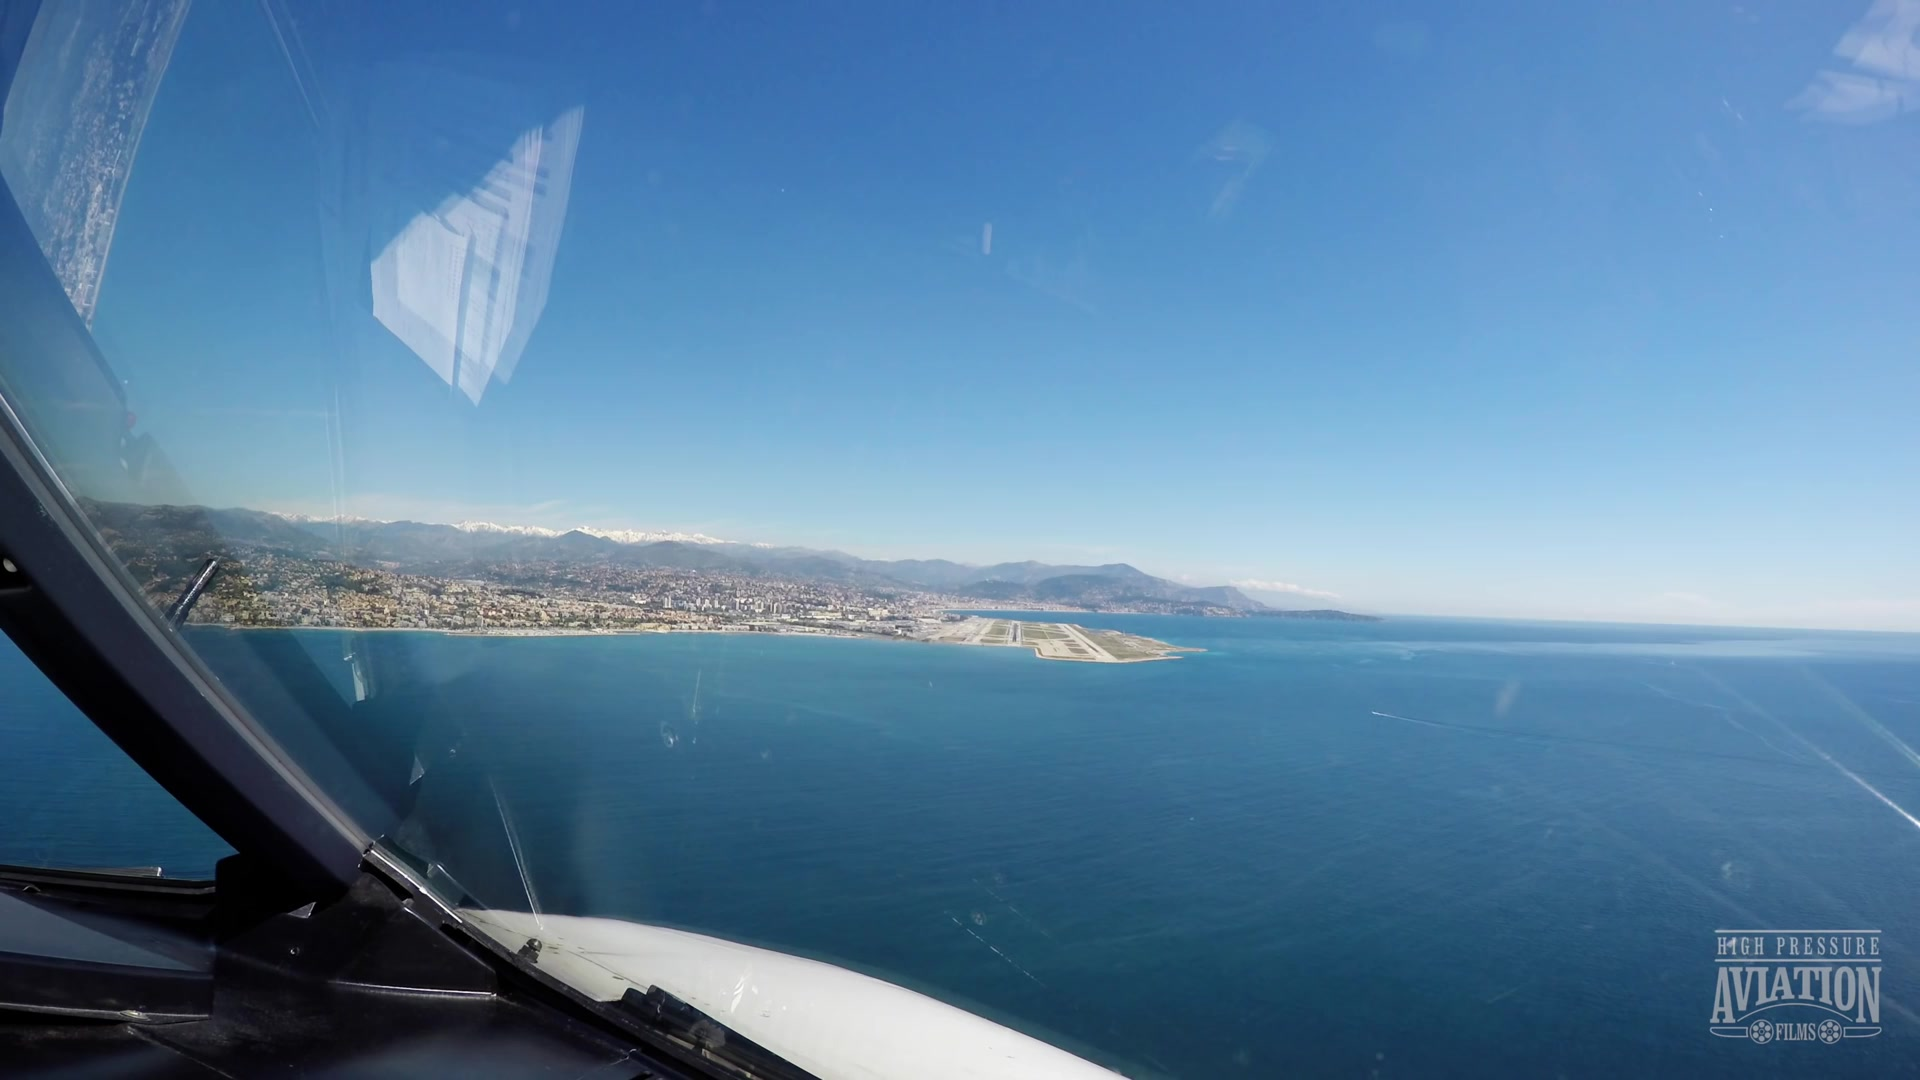runway: (1058, 622, 1121, 662), (1005, 621, 1023, 647)
